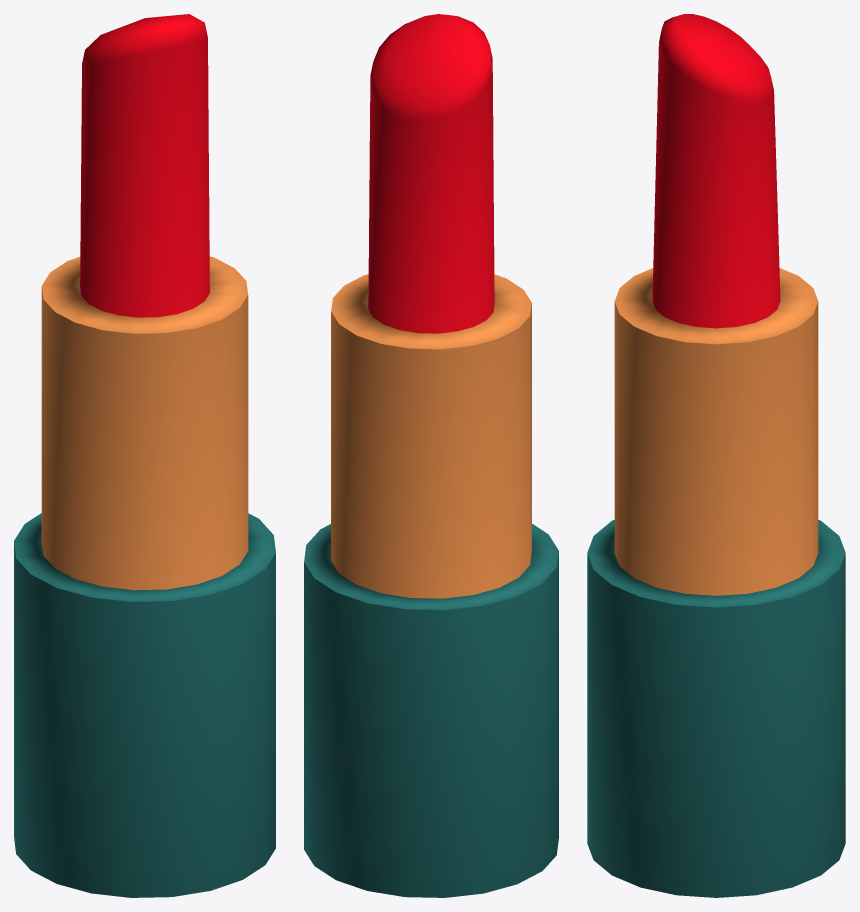
The model's file is SM_Pomade.fbx.
3 views of the same model, side by side, from view 1: azimuth 30°, elevation 25°; view 2: azimuth 150°, elevation 25°; view 3: azimuth 270°, elevation 25° (orthographic). The views are drawn at different scales.
Parts seen in each view (by area): view 1: SM_Pomade; view 2: SM_Pomade; view 3: SM_Pomade.
Boxes of the visible parts, left/top/right/bottom form: SM_Pomade: left=14, top=14, right=275, bottom=897; SM_Pomade: left=304, top=14, right=558, bottom=897; SM_Pomade: left=587, top=14, right=845, bottom=897.
Bounding box in the file's own units: 4.14 × 4.14 × 14.54.
Materials: 1 (1 with a texture image).
